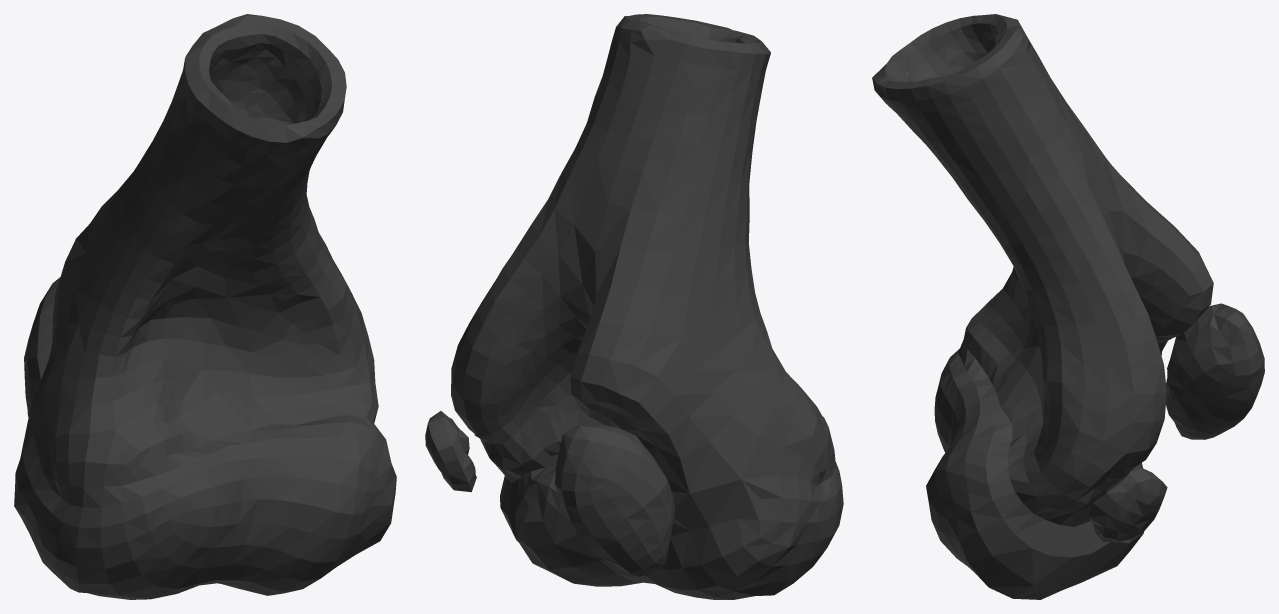
The model's file is Humerus_Humerus.glb.
3 renders of one model, left to right at view 1: azimuth 30°, elevation 25°; view 2: azimuth 150°, elevation 25°; view 3: azimuth 270°, elevation 25°, orthographic. The views are drawn at different scales.
Parts seen in each view (by area): view 1: Humerus_Humerus; view 2: Humerus_Humerus; view 3: Humerus_Humerus.
Part boxes in pixels (<box>): Humerus_Humerus: <box>14,14,396,599</box>; Humerus_Humerus: <box>425,14,843,599</box>; Humerus_Humerus: <box>872,14,1264,599</box>.
Bounding box in the file's own units: 0.1657 × 0.2514 × 0.1661.
1 material, 1 textured.
